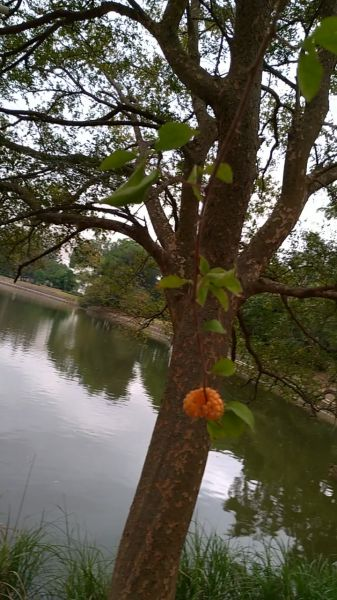eggs: (179, 382, 228, 428)
